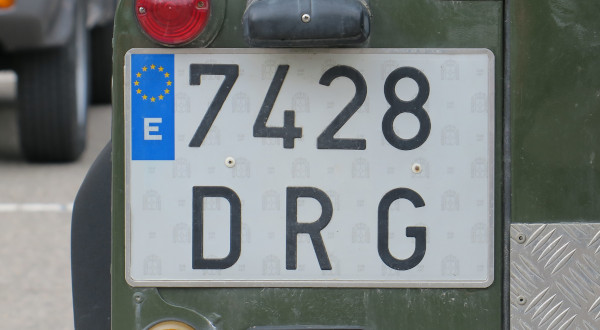license_plate: (125, 48, 495, 287)
